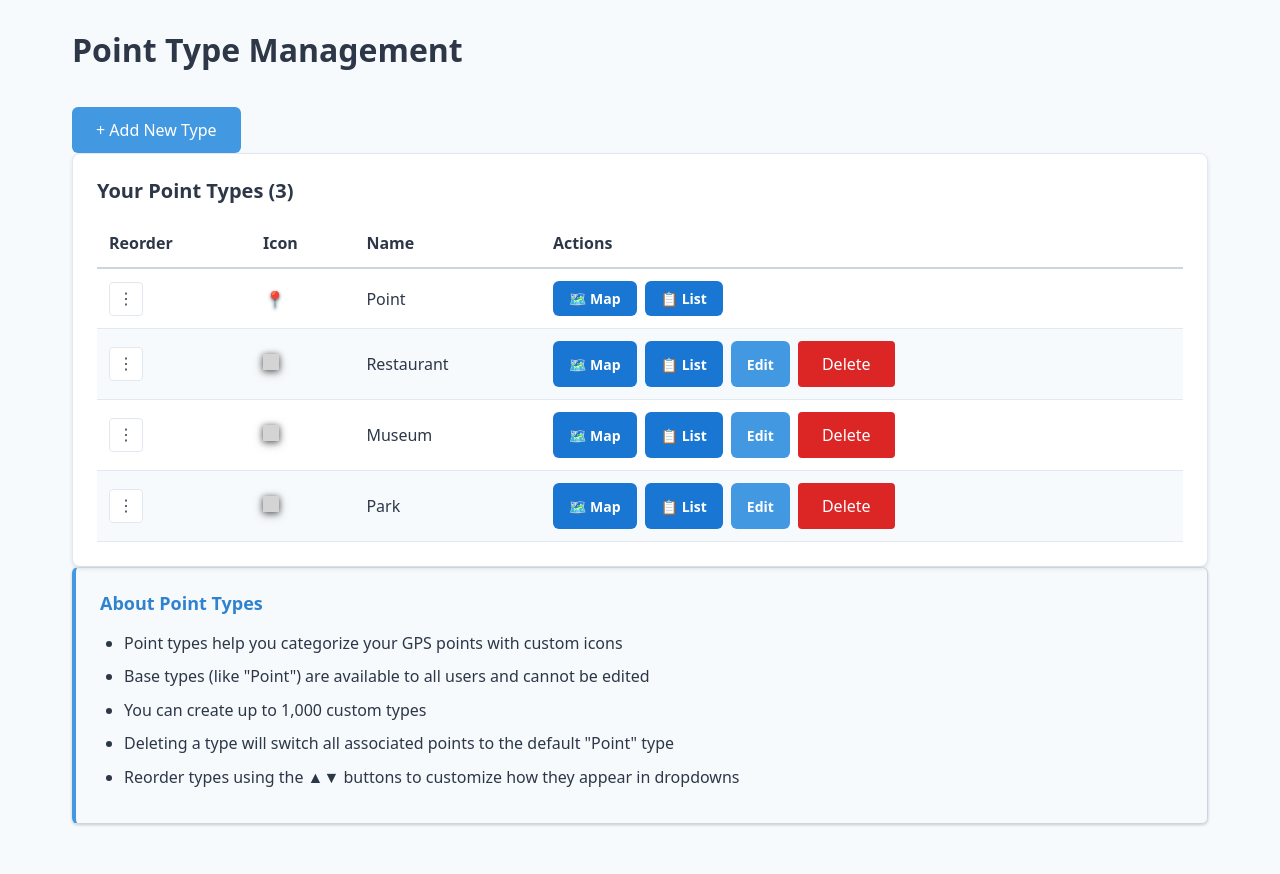
Test: Type Management Integration Tests › Creating Types › should show error when exceeding 1000 type limit
expect the text "Restaurant" is shown: met, box [366,353,449,375]
Click the button "+ Add New Type".
click(156, 130)  # box [72,107,241,153]
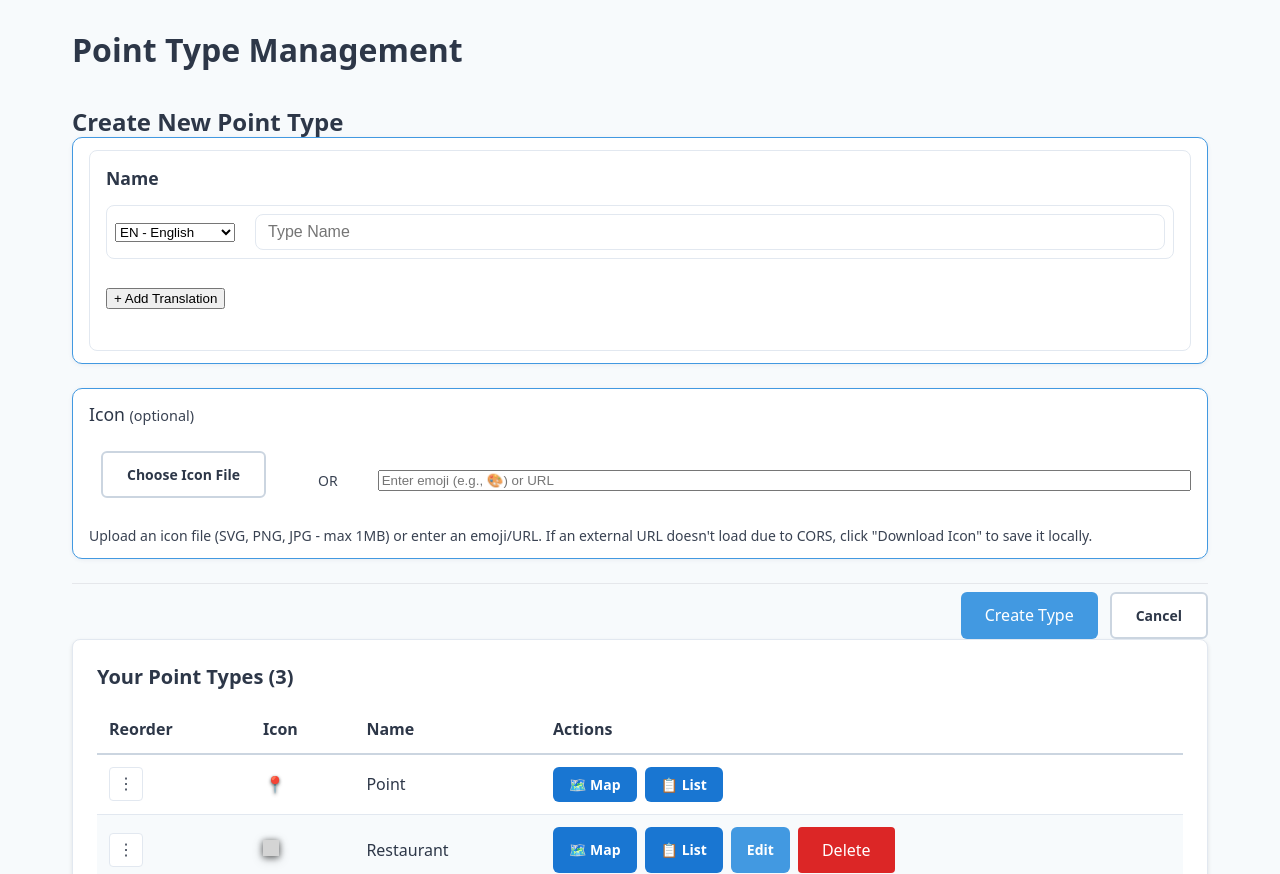
expect the heading "Create New Point Type" is shown: met, box [72,105,343,138]
Type "NewType" into the field with placeholder "Type Name".
click(710, 232); type("NewType")  # box [255,214,1165,250]
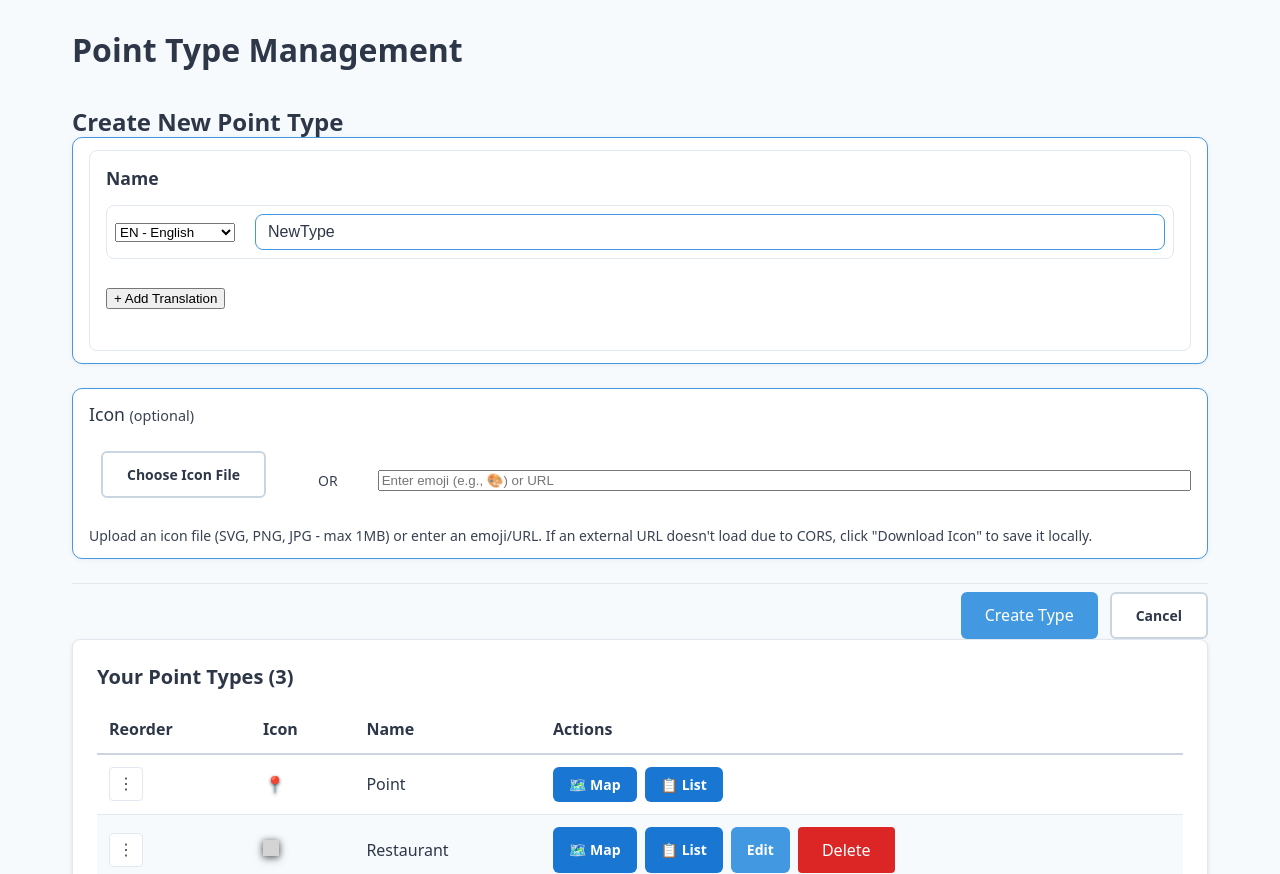
Click the button "Create Type".
click(1029, 615)  # box [961,592,1098,638]
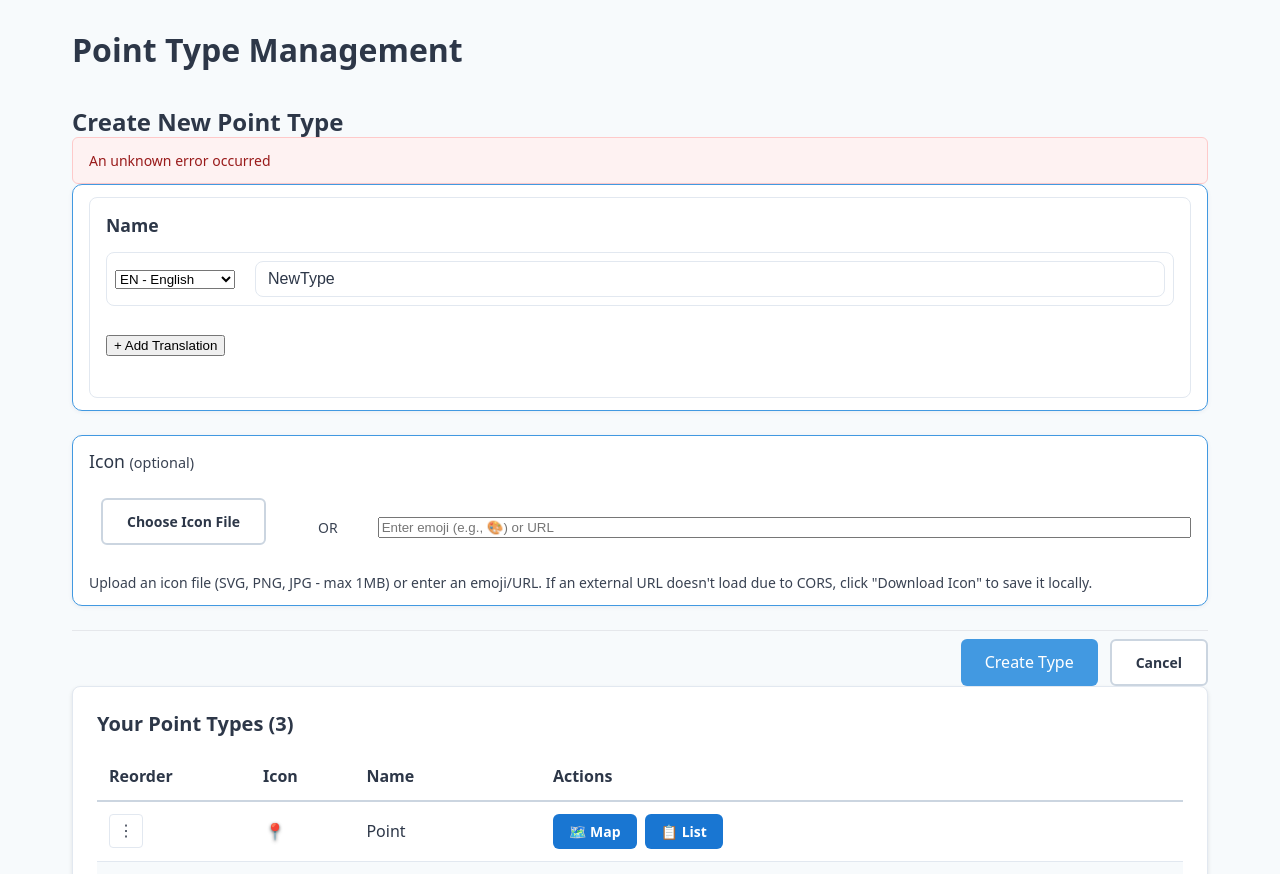
expect the message "An unknown error occurred" is shown: met, box [72,137,1208,184]
expect the message reads "An unknown error occurred": met, box [89,151,271,170]
